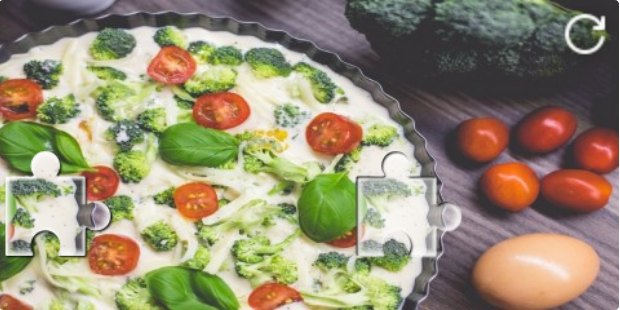target: (356, 151, 461, 258)
